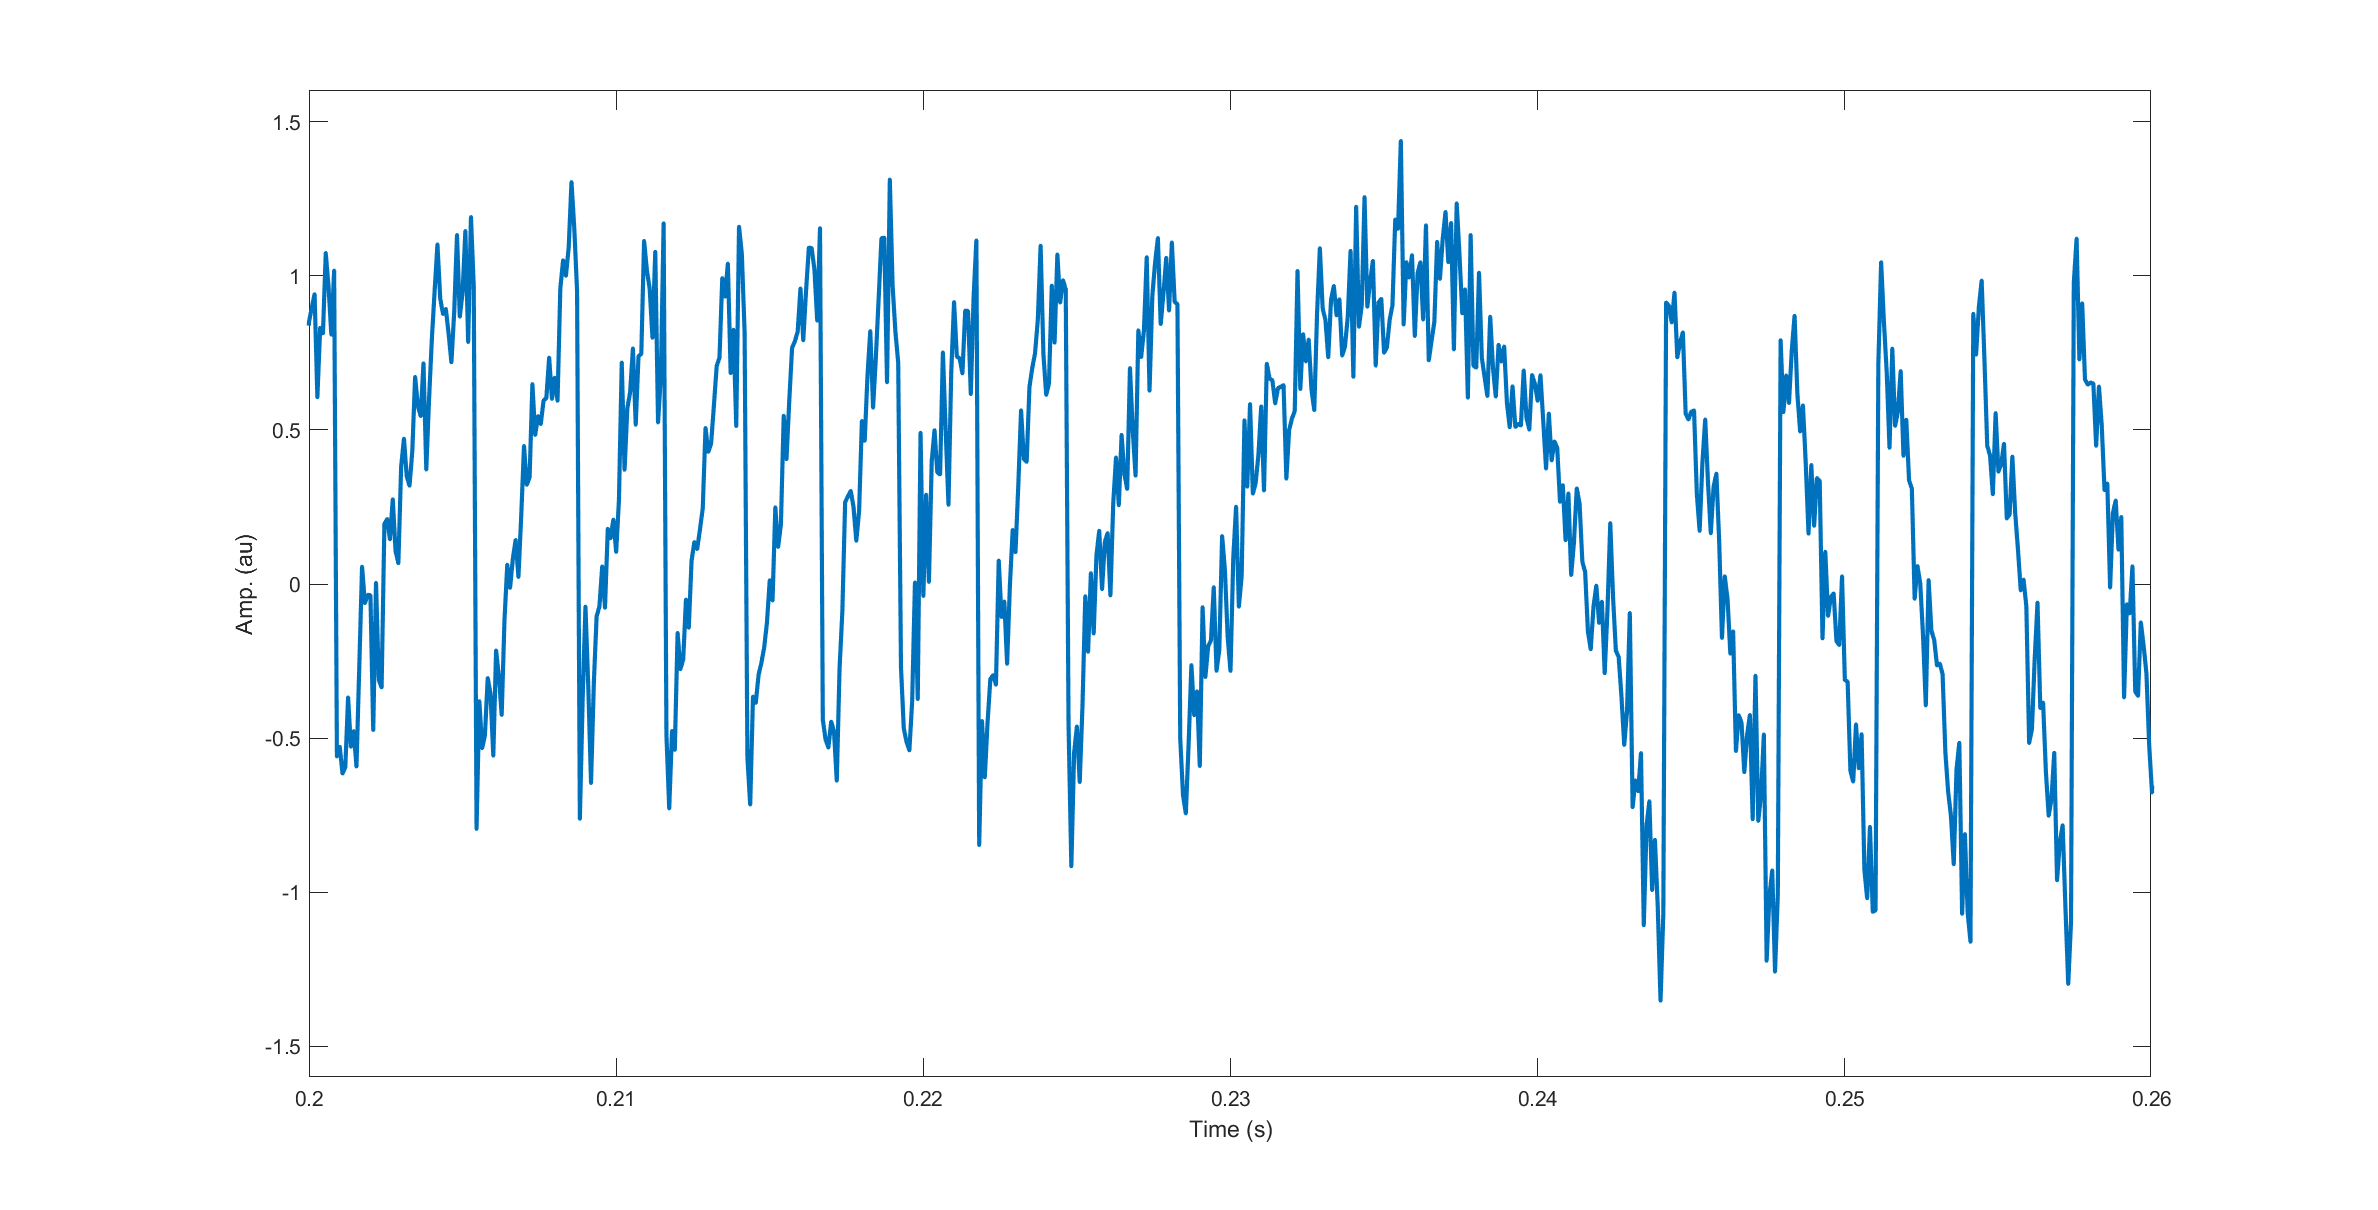negative_fringe: (1650, 265, 1762, 991), (1856, 242, 1957, 921), (1954, 259, 2048, 943), (1762, 301, 1860, 958), (2057, 227, 2137, 988)
positive_fringe: (356, 205, 483, 832), (1079, 230, 1204, 826), (494, 164, 589, 824), (992, 239, 1083, 880), (914, 232, 988, 860), (593, 205, 671, 787), (838, 165, 907, 766), (685, 210, 755, 773), (764, 213, 830, 779)
